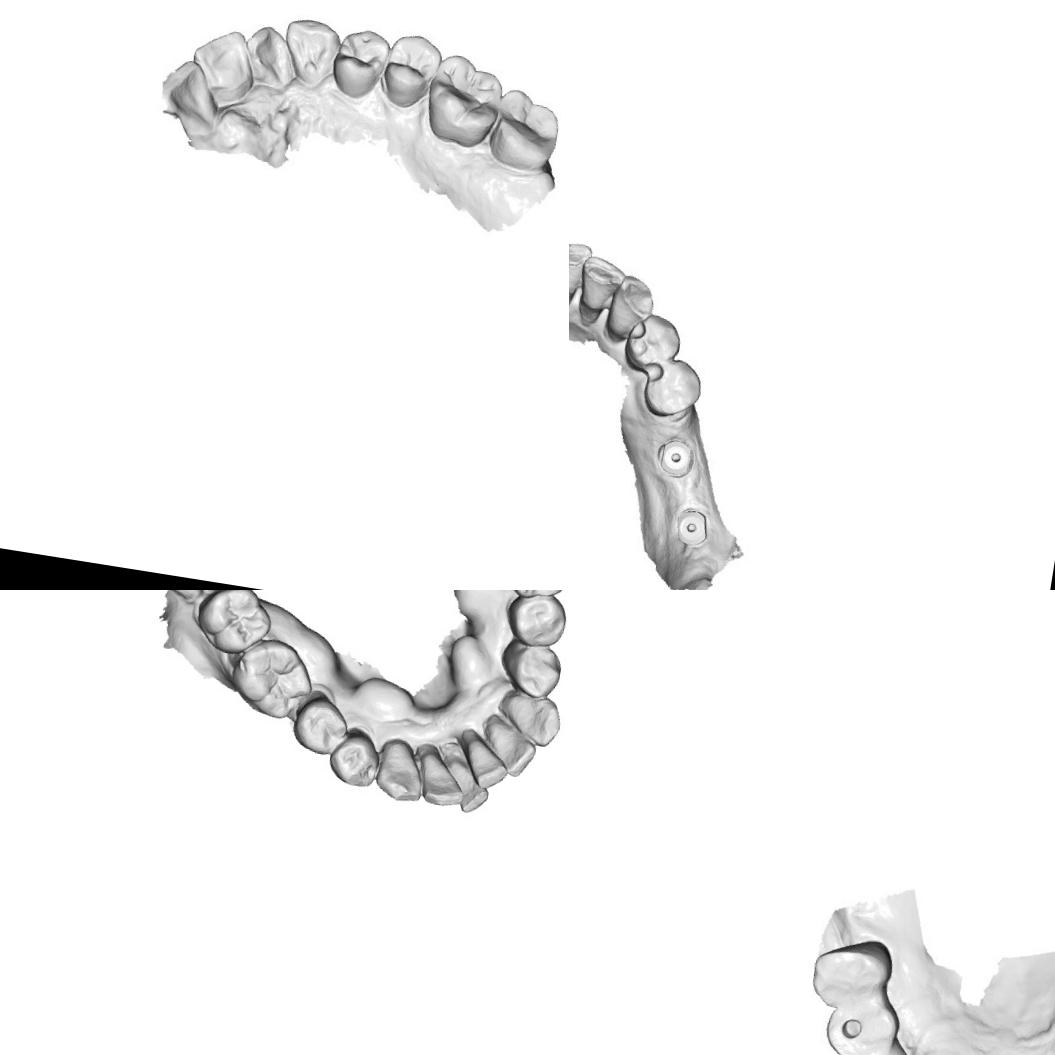canine: (277, 12, 345, 90), (497, 686, 566, 752), (604, 270, 662, 343), (370, 737, 432, 805)
implant: (652, 436, 698, 489), (672, 500, 716, 548)
incisor: (185, 24, 263, 110), (237, 21, 303, 97), (157, 58, 220, 130), (479, 717, 541, 782), (414, 746, 472, 812), (574, 256, 620, 329), (458, 735, 514, 794), (441, 756, 494, 817), (569, 238, 595, 319)
molar: (418, 49, 508, 155), (224, 631, 320, 724), (484, 87, 564, 178), (191, 590, 278, 660)
premolar: (807, 930, 903, 1016), (492, 631, 569, 703), (377, 30, 443, 109), (818, 994, 901, 1055), (328, 24, 388, 101), (287, 692, 353, 761), (499, 590, 569, 653), (324, 728, 385, 792), (626, 314, 682, 374), (646, 361, 700, 416)
